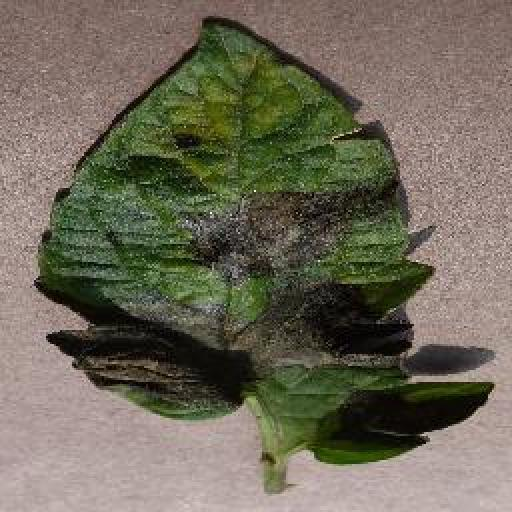Late Blight: (35, 19, 497, 468)
